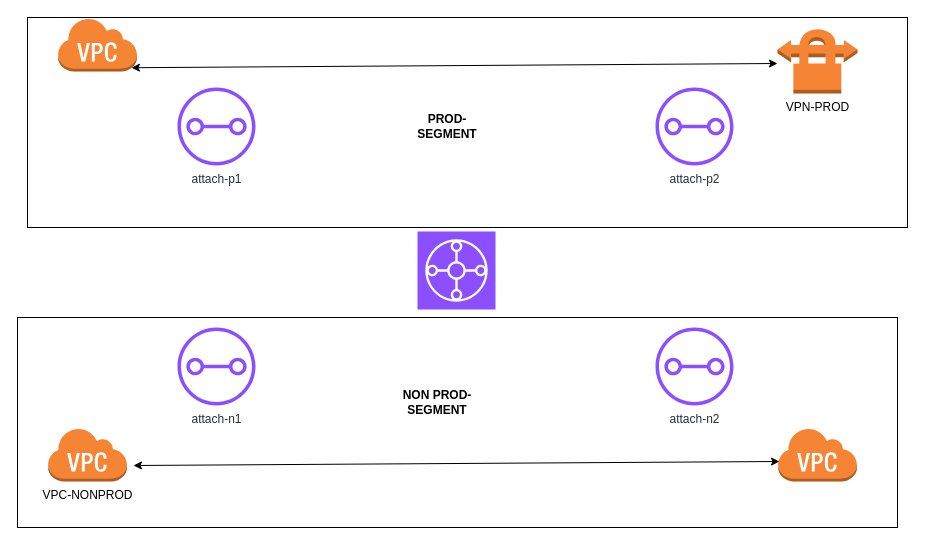
Image size: 925x545. Some labels were removed from this diagram. Here are the shapes that lost their labels. From the top down, the centre of each, then its label:
pixel 96 44: VPC-PROD
pixel 816 454: VPC-NP-SIMULATION
